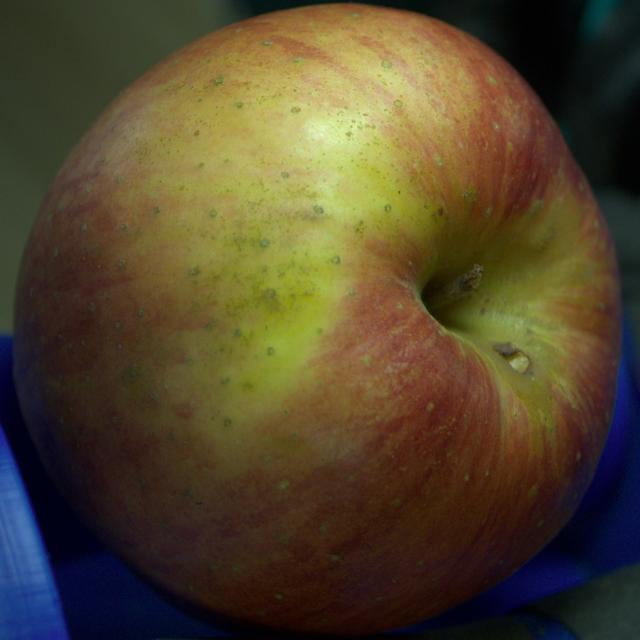apple: (14, 4, 621, 636)
pest: (493, 342, 529, 372)
